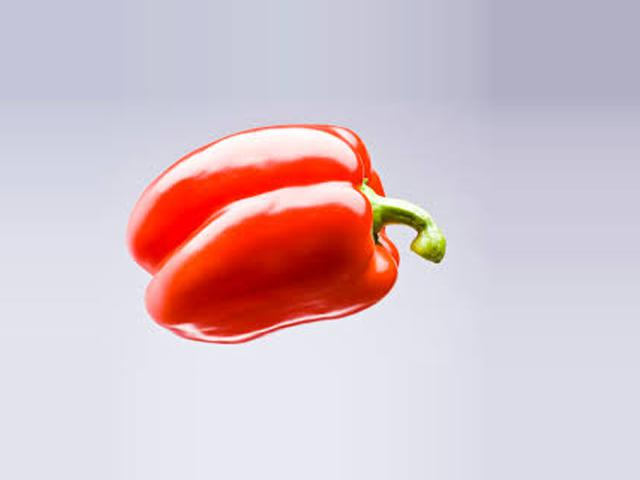bell_pepper: (136, 112, 447, 347)
